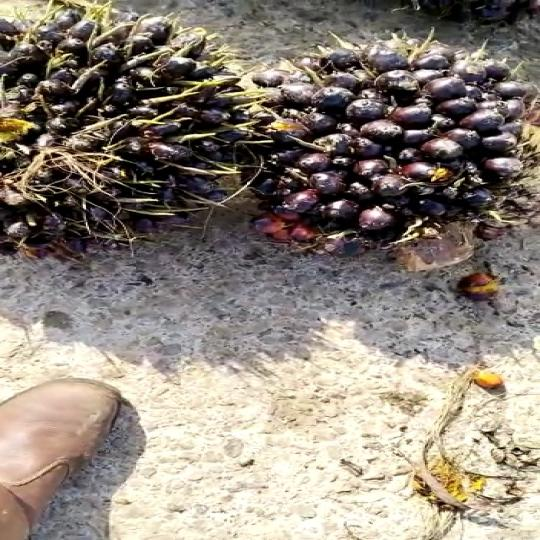mentah: (237, 22, 540, 254), (0, 0, 258, 242)
